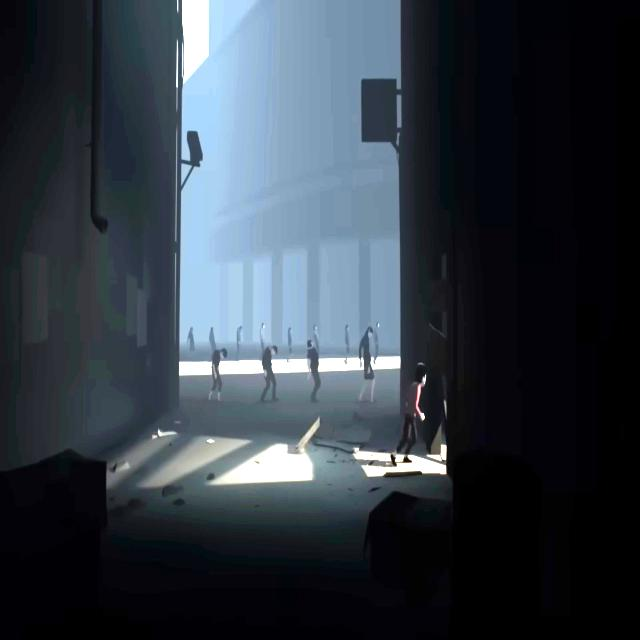boy: (391, 362, 426, 467)
zombie: (359, 326, 376, 403), (208, 348, 228, 402), (261, 346, 278, 401), (307, 340, 321, 402), (373, 322, 380, 364), (344, 324, 350, 364), (236, 325, 243, 357), (187, 326, 195, 353), (260, 323, 265, 362), (288, 327, 292, 356)
